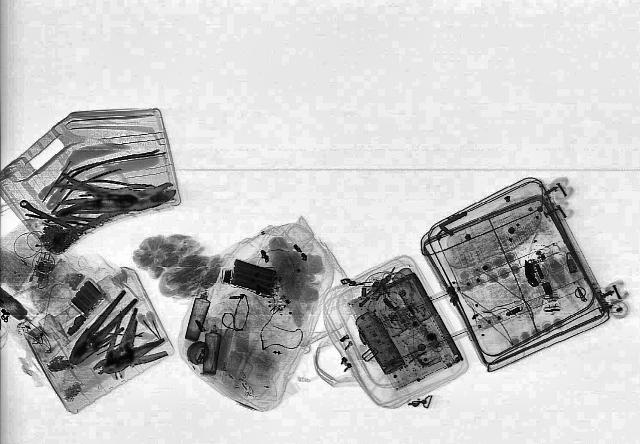Wrench: (14, 198, 86, 237)
